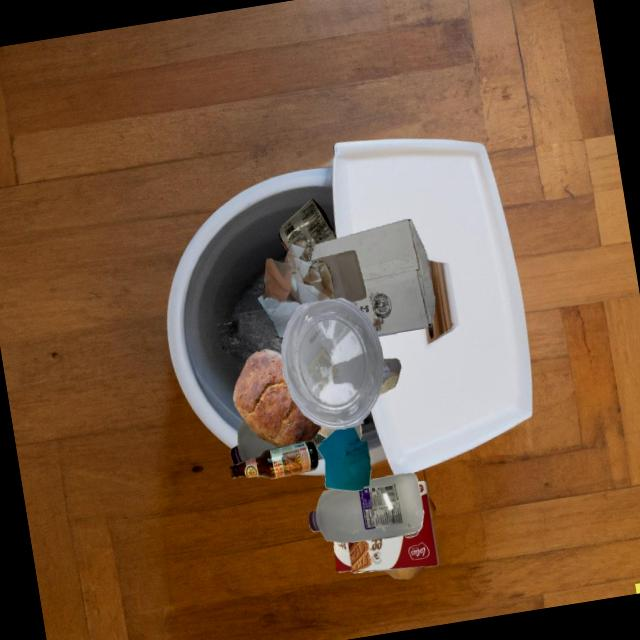biowaste: (233, 349, 321, 447), (384, 566, 424, 579), (427, 492, 436, 519)
cardboard: (311, 219, 435, 336), (334, 481, 439, 573)
glass: (229, 441, 319, 479)
paper: (257, 239, 335, 338), (317, 427, 372, 491), (379, 358, 401, 396)
plastic: (281, 298, 384, 430), (309, 473, 424, 543), (278, 199, 337, 259), (250, 428, 318, 476), (312, 250, 367, 302), (317, 426, 336, 438)
